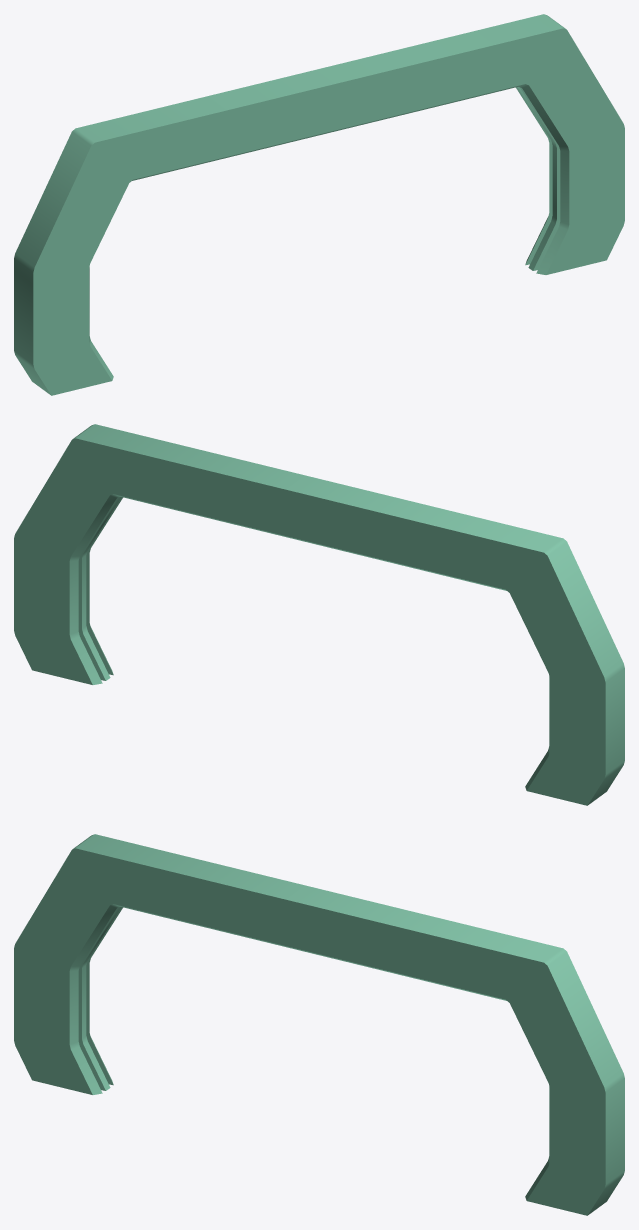
Rendered from SM_geo_EntryArch.fbx.
The picture shows the model from 3 angles, top to bottom: view 1: azimuth 30°, elevation 25°; view 2: azimuth 150°, elevation 25°; view 3: azimuth 330°, elevation 25°; orthographic projection.
Parts seen in each view (by area): view 1: EntryArch; view 2: EntryArch; view 3: EntryArch.
Boxes of the visible parts, box(x1,y1,x2,y2) form: EntryArch: box(14, 14, 624, 395); EntryArch: box(14, 424, 624, 805); EntryArch: box(14, 834, 624, 1215).
Size of the model in its own units: 1219 by 69.45 by 478.
